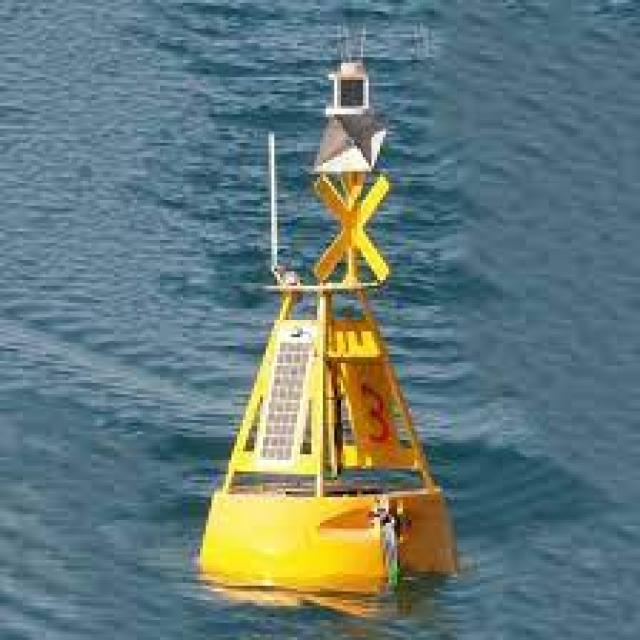2.5 sepcial mark: (204, 50, 480, 604)
